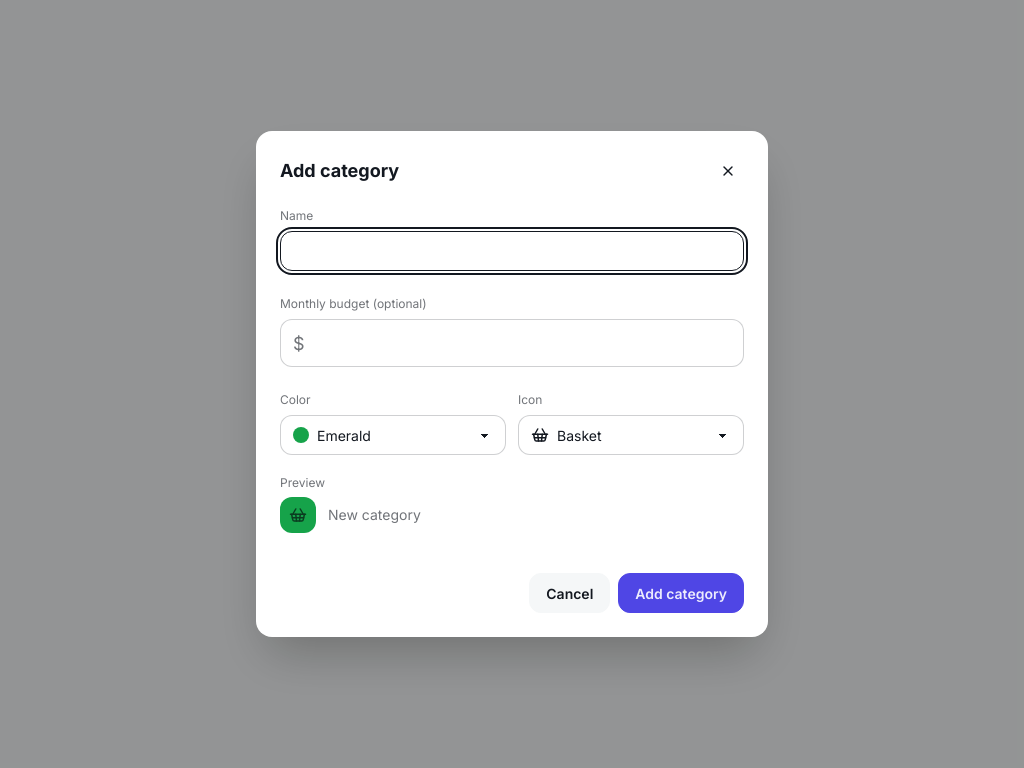
Test case: AC3: validation › shows both messages at once when both fields are wrong
The width and height of the screenshot is (1024, 768).
Type "0" into the field labelled "Monthly budget (optional)" at (522, 343), box [313,320,731,366]
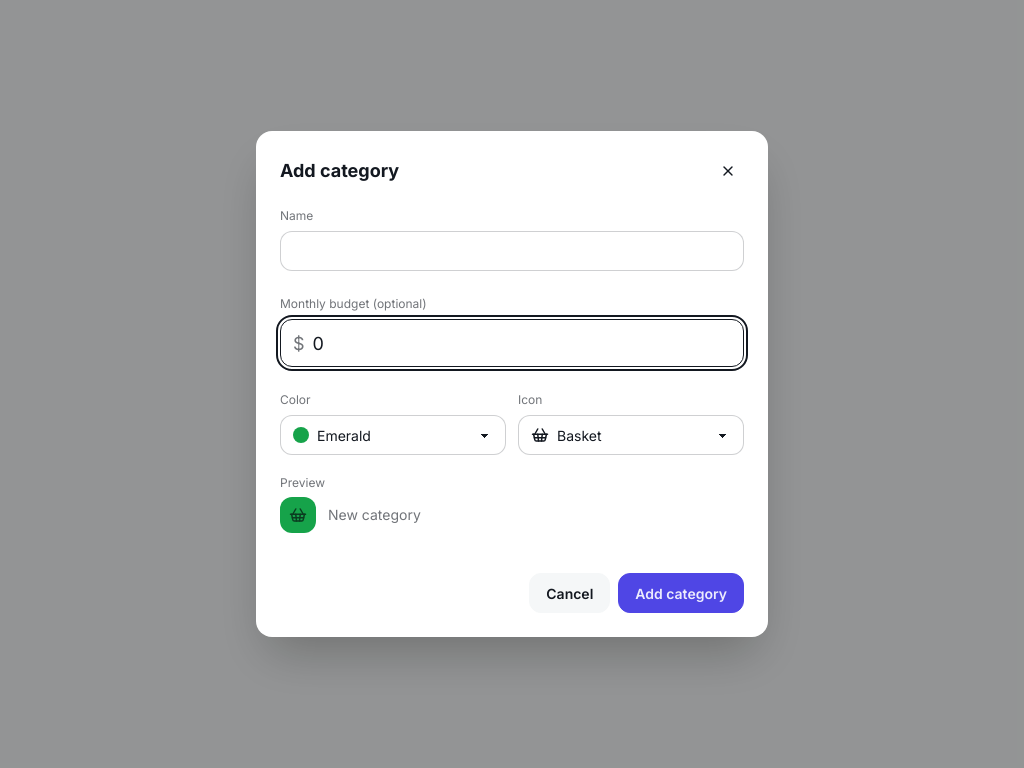
Click the button "Add category" at (681, 593), box [618,573,744,613]
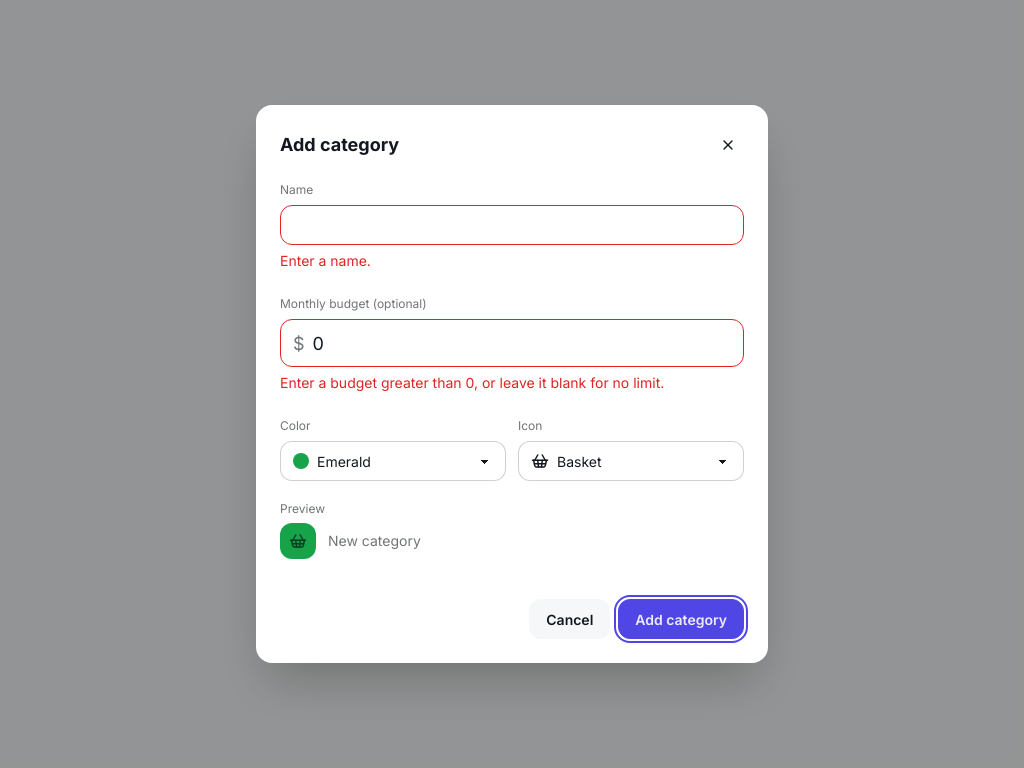
expect the text "Enter a name." is shown: met, box [280,252,371,269]
expect the text "Enter a budget greater than 0, or leave it blank for no limit." is shown: met, box [280,374,664,391]
